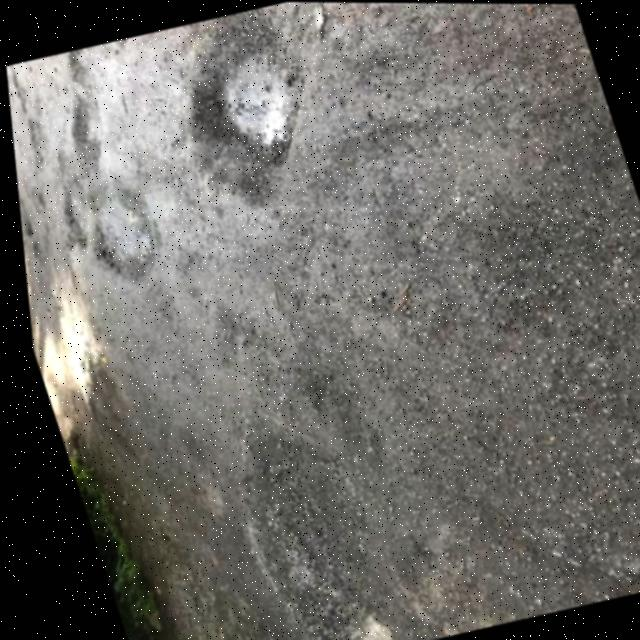Pothole: (167, 10, 337, 189), (67, 179, 168, 286), (50, 95, 115, 176), (62, 37, 140, 95), (47, 192, 93, 255)
